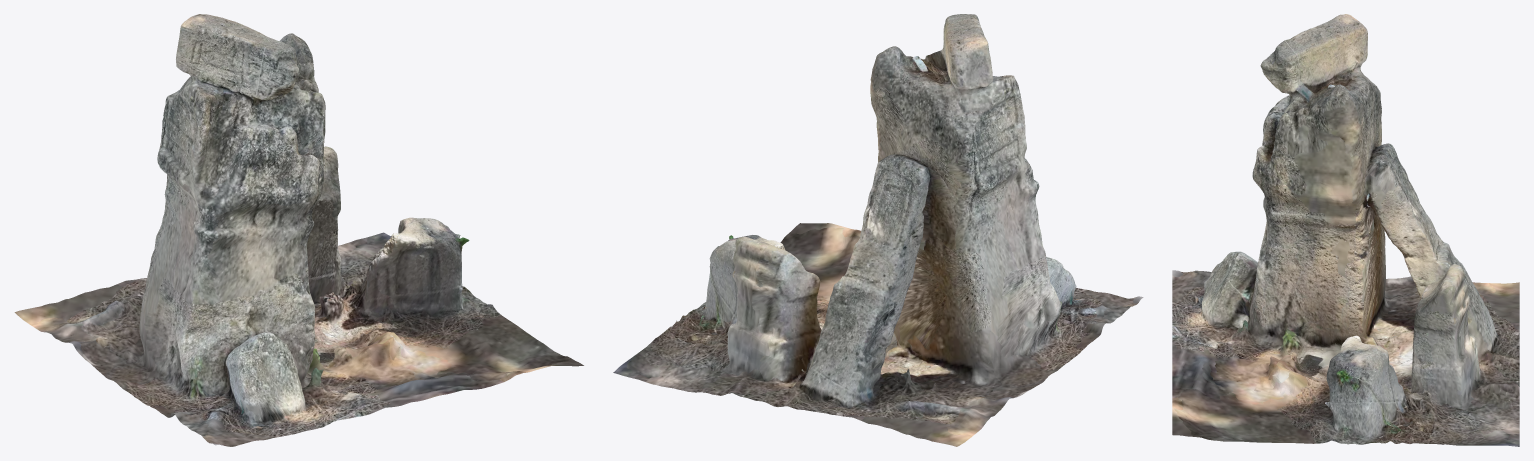
The model's file is punic-stela.glb.
3 renders of one model, left to right at view 1: azimuth 30°, elevation 25°; view 2: azimuth 150°, elevation 25°; view 3: azimuth 270°, elevation 25°, orthographic. The views are drawn at different scales.
Visible parts, largest first — view 1: Object_2; view 2: Object_2; view 3: Object_2.
Part boxes in pixels (x1,y1,x2,y2): Object_2: (14, 14, 583, 446); Object_2: (613, 14, 1143, 446); Object_2: (1172, 14, 1519, 446).
Size of the model in its own units: 1.54 by 1.43 by 1.45.
Materials: 1 (1 with a texture image).
